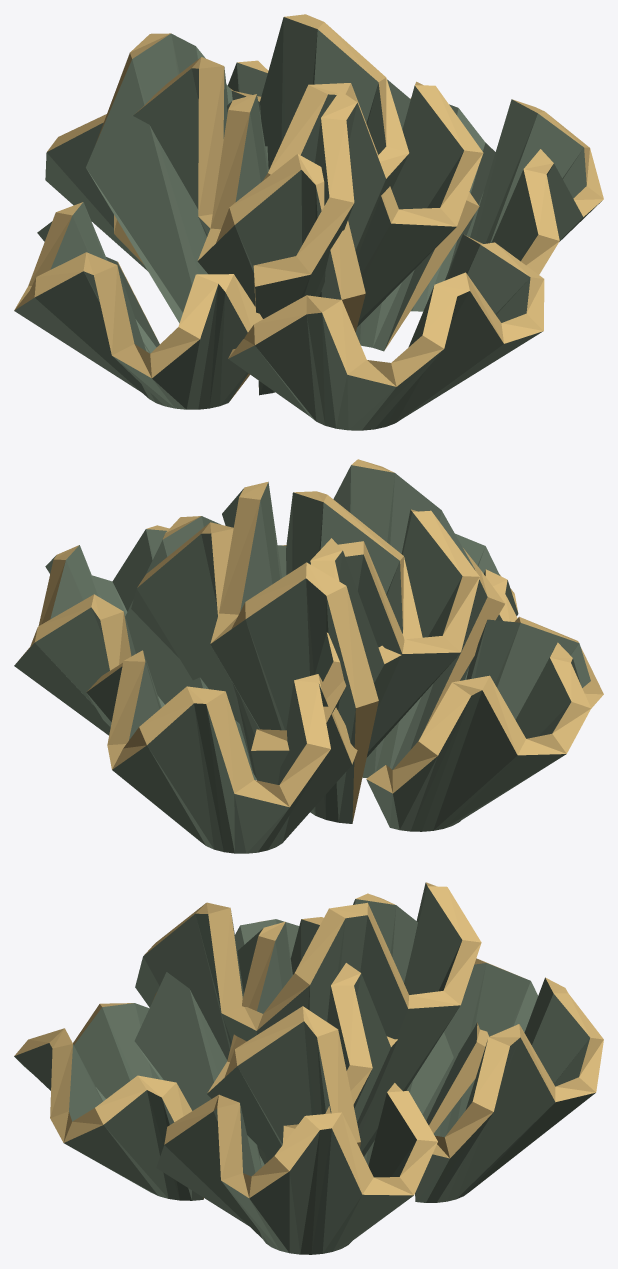
File: pf_lettuce-coral-e16e43.glb
The picture shows the model from 3 angles, top to bottom: view 1: azimuth 30°, elevation 25°; view 2: azimuth 150°, elevation 25°; view 3: azimuth 270°, elevation 25°; orthographic projection. The views are drawn at different scales.
Parts seen in each view (by area): view 1: lettuce-coral-shell; view 2: lettuce-coral-shell; view 3: lettuce-coral-shell.
Boxes of the visible parts, x1,y1,x2,y2 form: lettuce-coral-shell: (14, 14, 603, 430); lettuce-coral-shell: (14, 459, 603, 853); lettuce-coral-shell: (14, 882, 603, 1254).
Size of the model in its own units: 1.19 by 0.6442 by 1.19.
